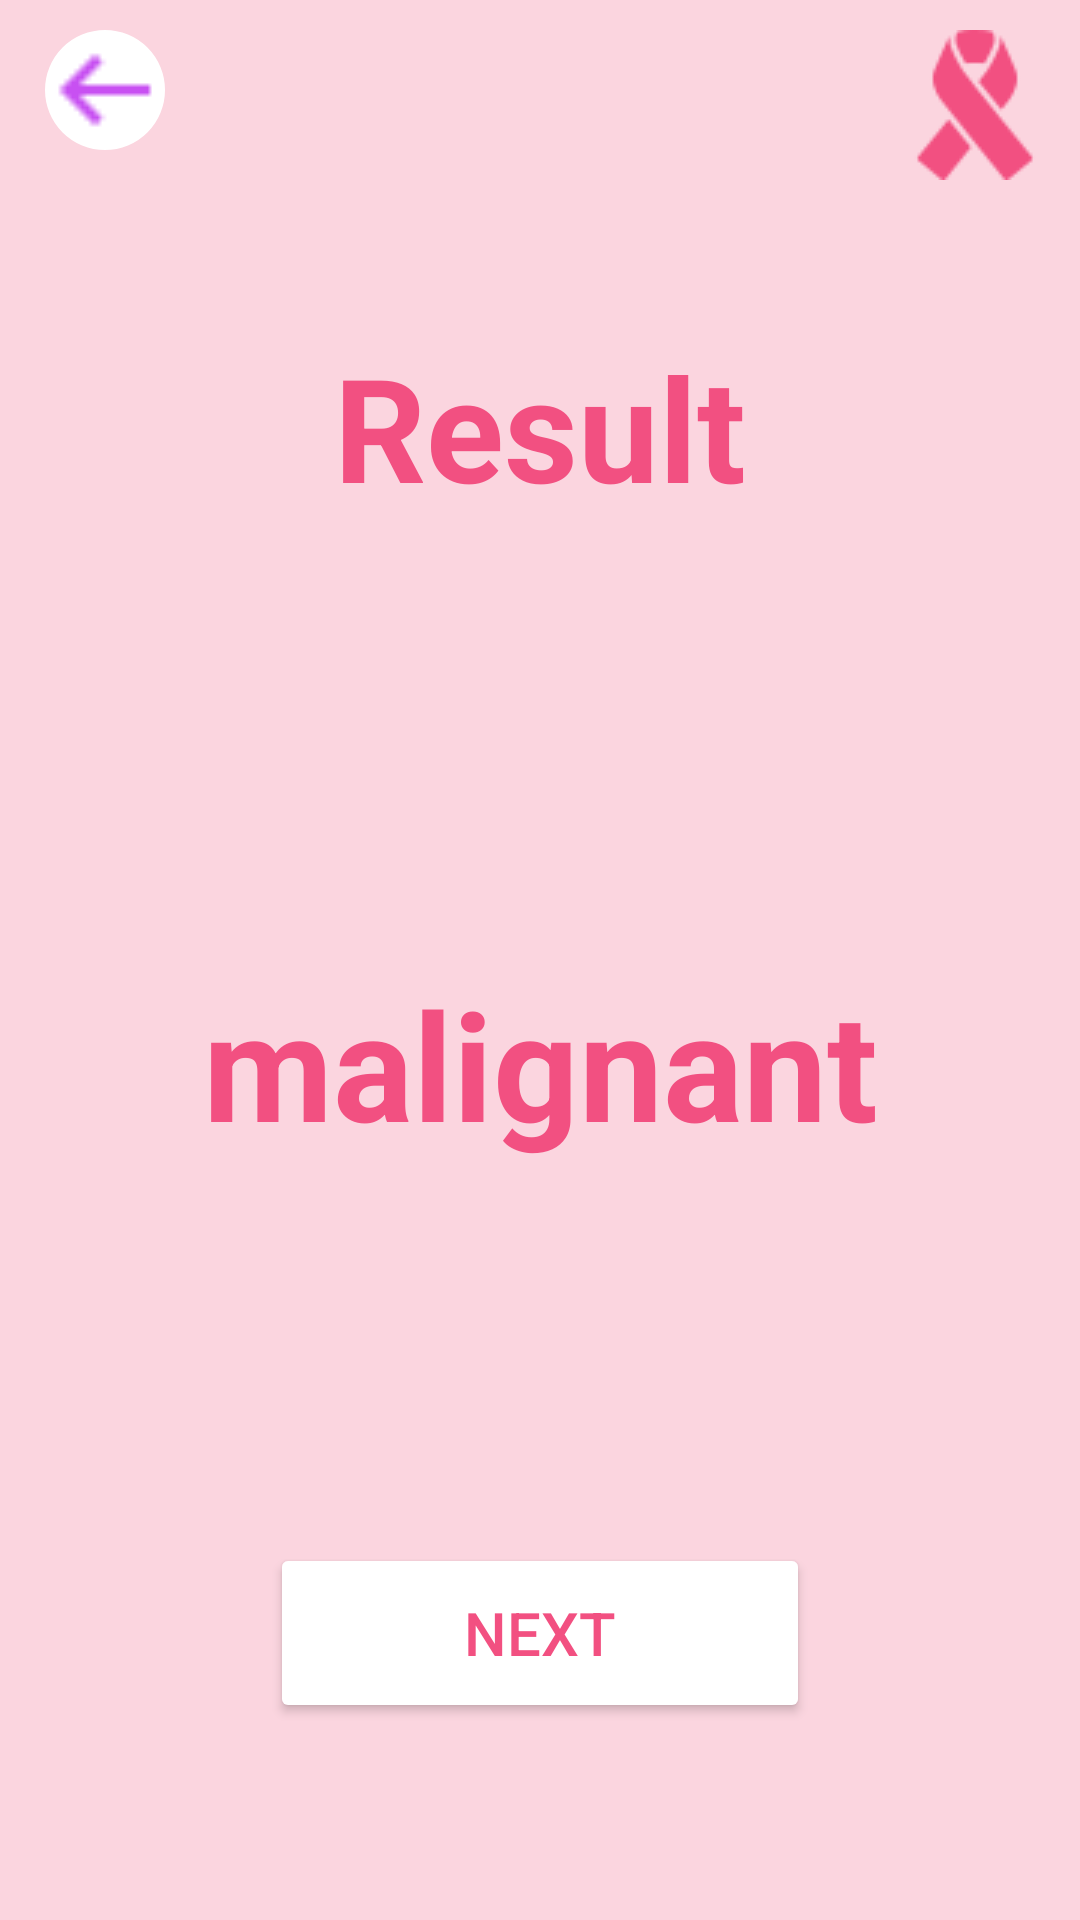

Icon click points for this 1080 x 1920 phone screenshot, format point (x, y):
back: point (105, 90)
